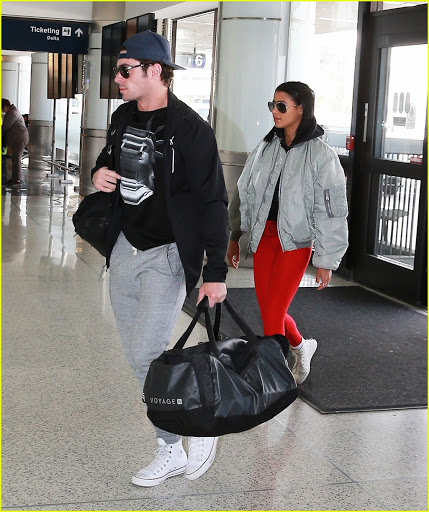Person: (73, 30, 228, 489), (228, 80, 350, 385)
